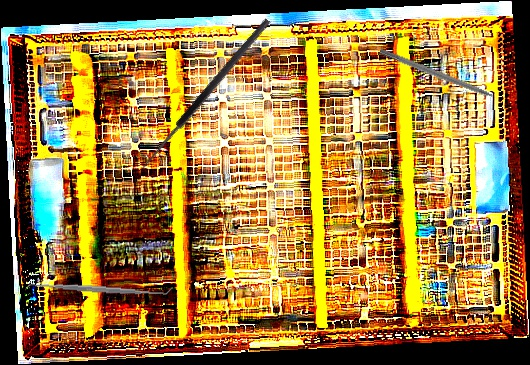Hook Surgical: (138, 16, 279, 179), (378, 47, 508, 107)
Spatula Surgical: (24, 275, 174, 303)
